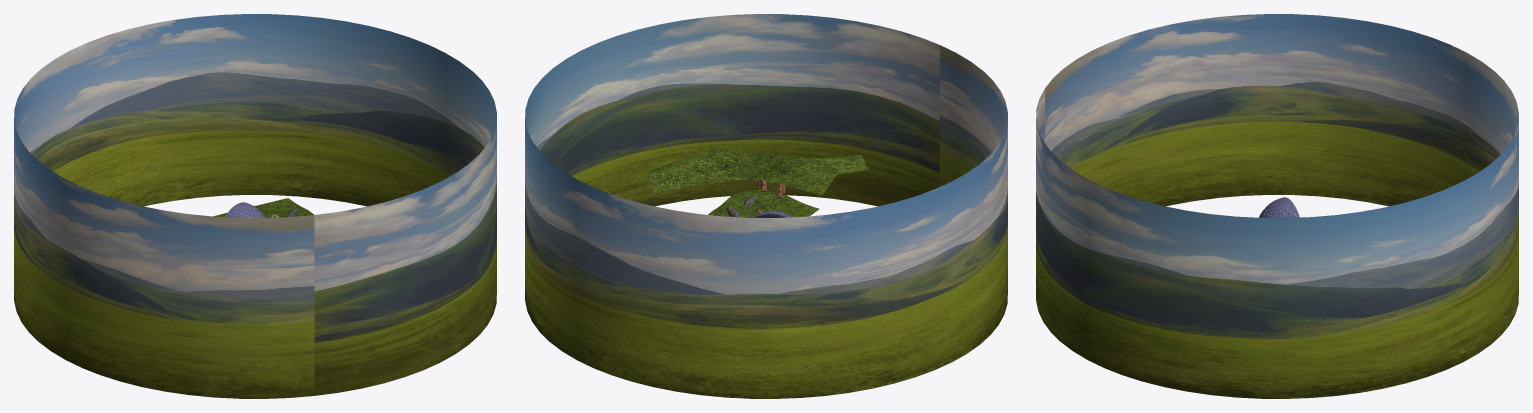
Rendered from env_nab_greatgrassyplains_jarjarle_pre.glb.
3 renders of one model, left to right at view 1: azimuth 30°, elevation 25°; view 2: azimuth 150°, elevation 25°; view 3: azimuth 270°, elevation 25°, orthographic.
Parts seen in each view (by area): view 1: brac_skycylinder_mesh, nab_great_grassy_plains_ground, GunganShield_glow; view 2: brac_skycylinder_mesh, naboo_grasslands_cinehill 01, naboo_grasslands_cinehill 02, nab_great_grassy_plains_ground; view 3: brac_skycylinder_mesh, GunganShield_glow.
Boxes of the visible parts, box(x1,y1,x2,y2) form: brac_skycylinder_mesh: box(14, 14, 496, 398); nab_great_grassy_plains_ground: box(213, 198, 313, 217); GunganShield_glow: box(225, 202, 265, 217); brac_skycylinder_mesh: box(525, 14, 1007, 398); naboo_grasslands_cinehill 01: box(647, 154, 868, 193); naboo_grasslands_cinehill 02: box(703, 146, 841, 195); nab_great_grassy_plains_ground: box(708, 189, 819, 217); brac_skycylinder_mesh: box(1036, 14, 1518, 398); GunganShield_glow: box(1260, 197, 1299, 217).
Bounding box in the file's own units: 383 × 159 × 383.
Materials: 13 (13 with a texture image).
